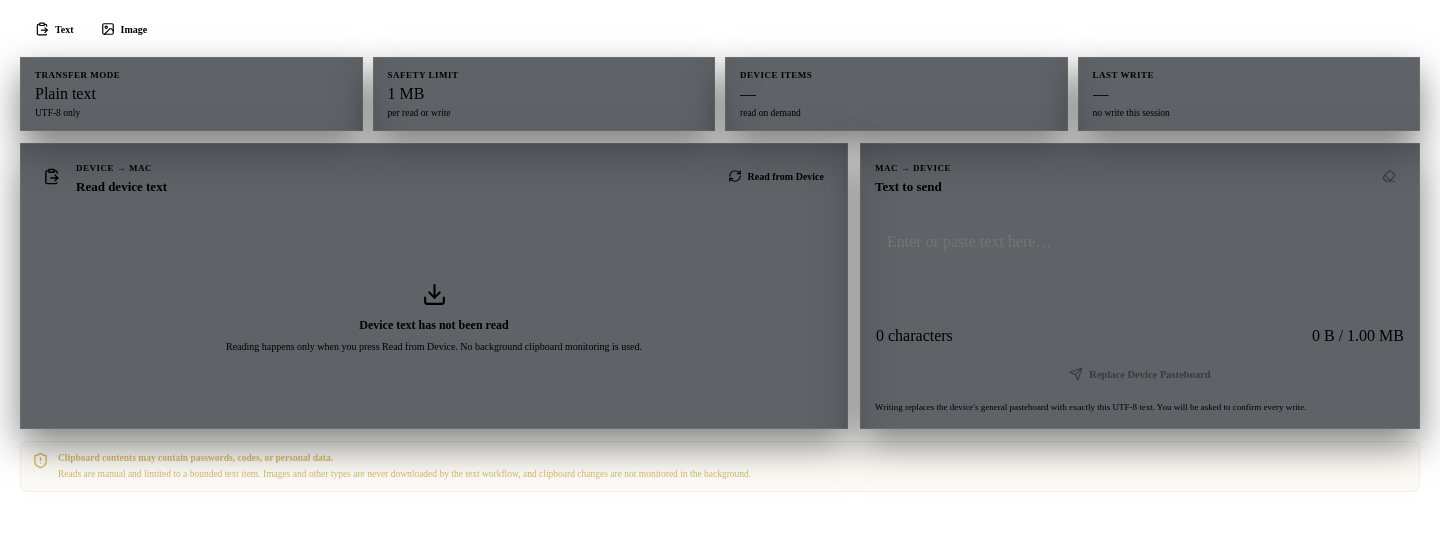
Scenario: Pasteboard transfer › does not inspect device images until the image read is explicitly requested
Click the tab "Image" at coordinates (124, 29), box [88, 16, 159, 42]
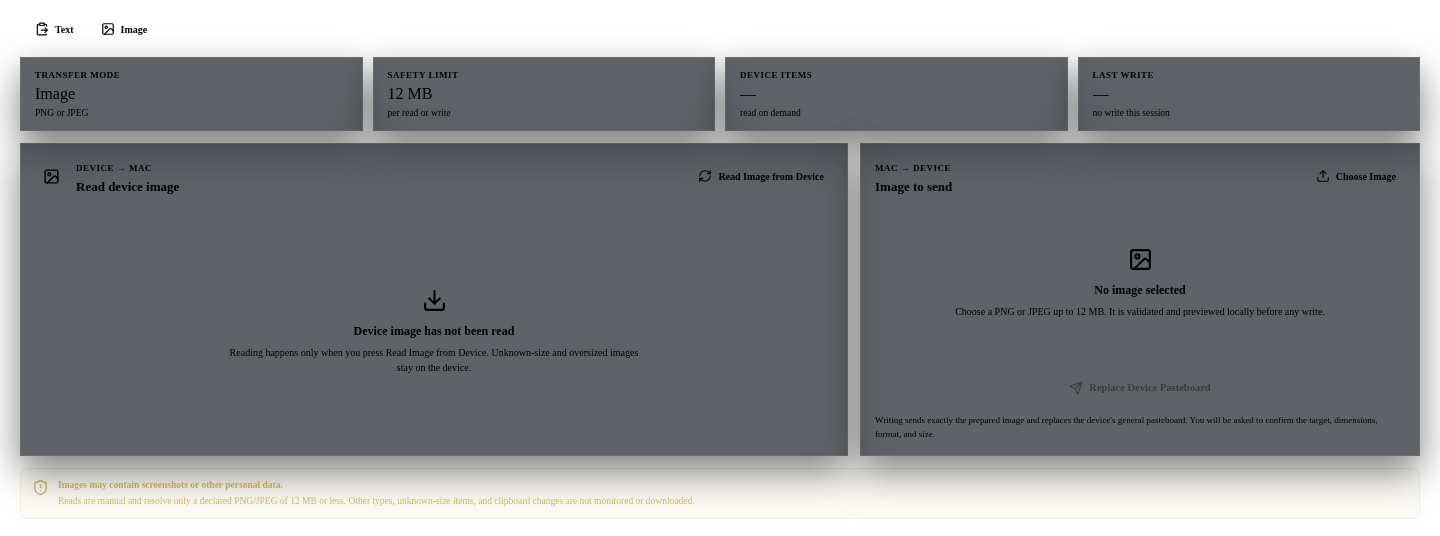
Expected: the text "Device image has not been read" is shown, [354, 324, 514, 338]
Click the button "Read Image from Device" at coordinates (761, 176), box [689, 162, 833, 190]
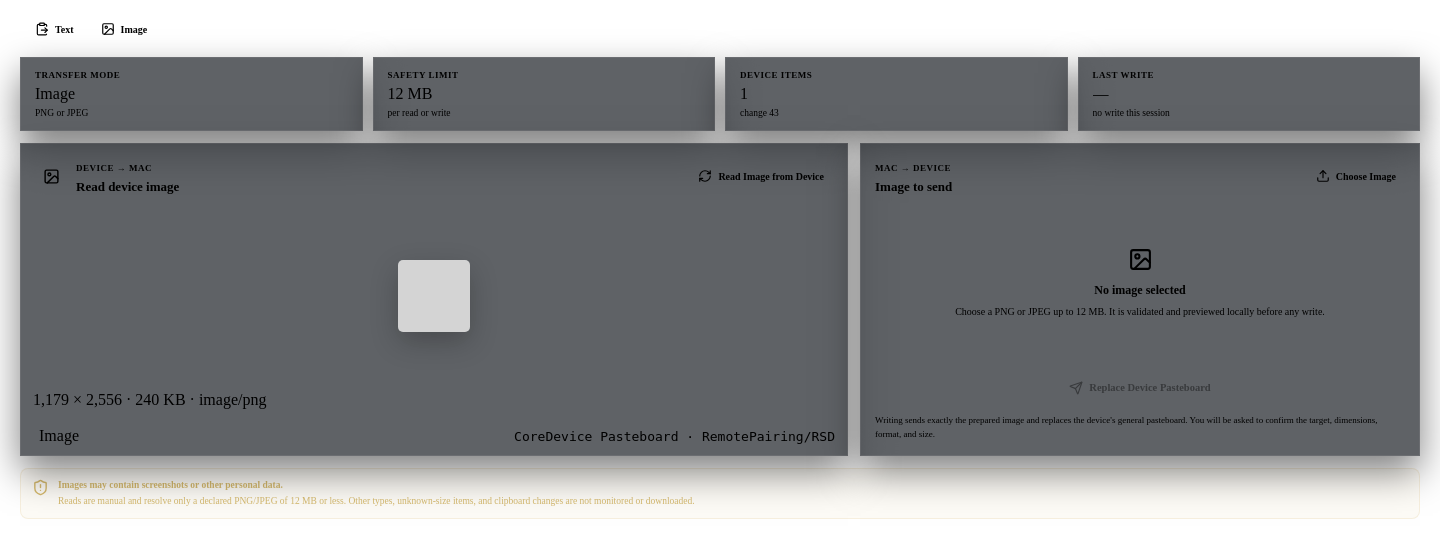
Expected: the text "1,179 × 2,556 · 240 KB · image/png" is shown, [33, 391, 266, 409]
